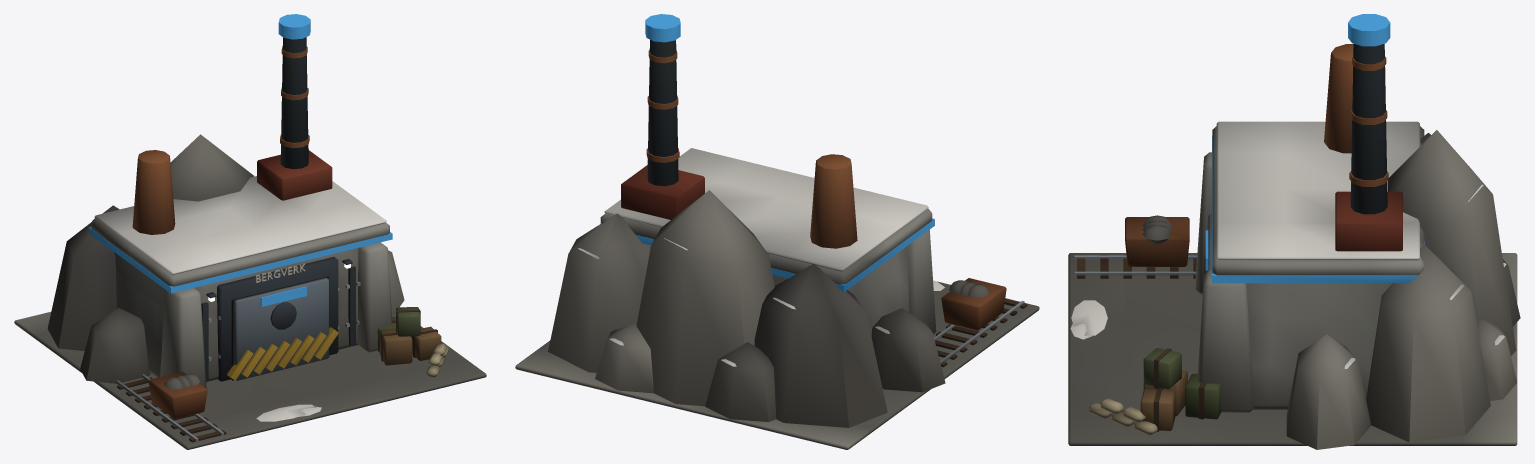
File: armory.glb
The picture shows the model from 3 angles, left to right: view 1: azimuth 30°, elevation 25°; view 2: azimuth 150°, elevation 25°; view 3: azimuth 270°, elevation 25°; orthographic projection. The views are drawn at different scales.
Parts seen in each view (by area): view 1: armory_root_matte, armory_root_metal, armory_door_metal, armory_root_trim, armory_door_matte, armory_door_trim; view 2: armory_root_matte, armory_root_metal, armory_root_trim; view 3: armory_root_matte, armory_root_metal, armory_root_trim.
Boxes of the visible parts, bbox=[...] form: armory_root_matte: bbox=[14, 134, 486, 449]; armory_root_metal: bbox=[115, 37, 360, 441]; armory_door_metal: bbox=[234, 277, 328, 380]; armory_root_trim: bbox=[88, 14, 392, 293]; armory_door_matte: bbox=[227, 327, 338, 380]; armory_door_trim: bbox=[260, 286, 306, 306]; armory_root_matte: bbox=[515, 148, 1039, 449]; armory_root_metal: bbox=[646, 39, 1024, 363]; armory_root_trim: bbox=[598, 14, 934, 292]; armory_root_matte: bbox=[1068, 121, 1520, 449]; armory_root_metal: bbox=[1074, 43, 1388, 275]; armory_root_trim: bbox=[1212, 14, 1424, 283].
Size of the model in its own units: 11.33 by 9.8 by 10.68.
